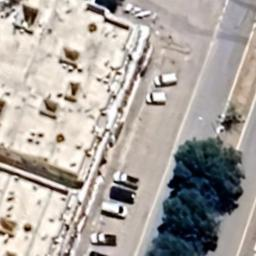pickup: (113, 170, 139, 190), (90, 232, 117, 244)
van: (109, 186, 136, 204), (101, 200, 127, 218), (154, 72, 178, 88), (146, 90, 167, 104)
